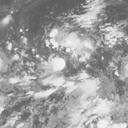cyclone: (38, 54, 66, 87)
